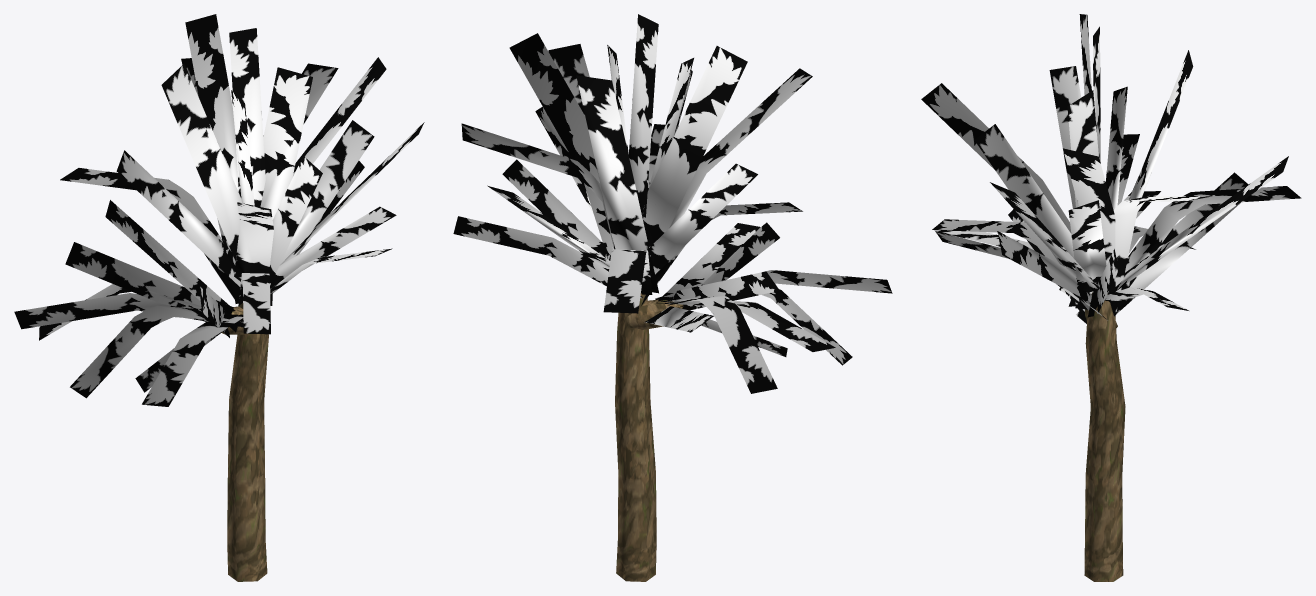
Rendered from P_YuccaTree01.obj.
The picture shows the model from 3 angles, left to right: view 1: azimuth 30°, elevation 25°; view 2: azimuth 150°, elevation 25°; view 3: azimuth 270°, elevation 25°; orthographic projection. The views are drawn at different scales.
Bounding box in the file's own units: 1.65 × 2.43 × 1.55.
